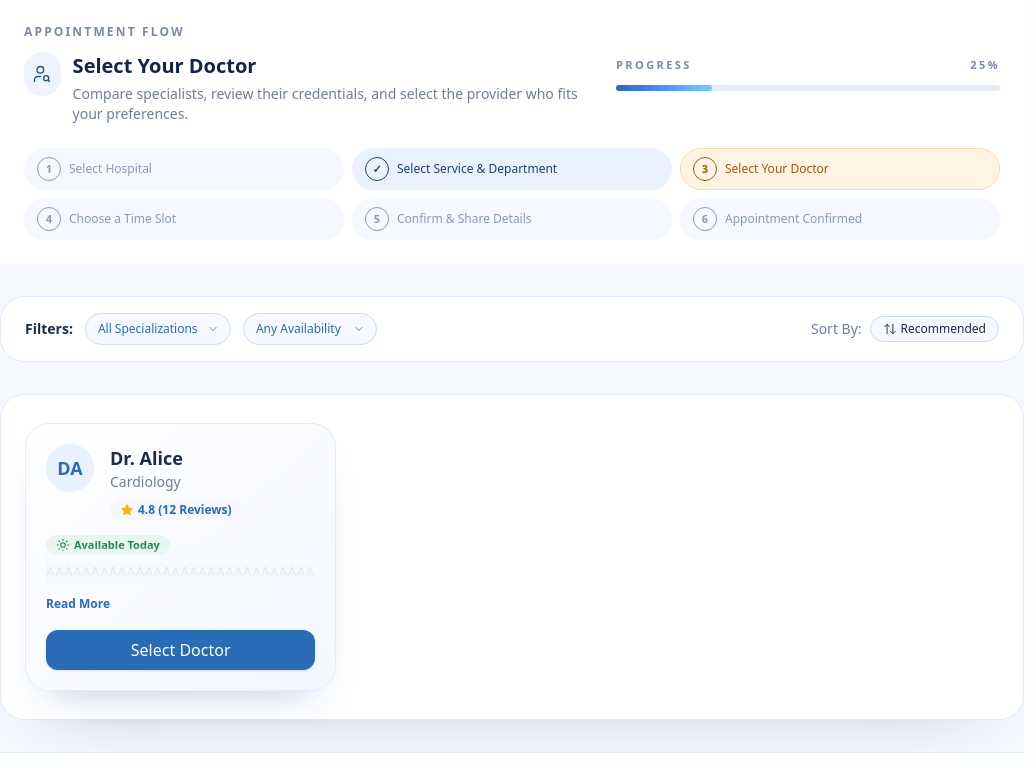
it: SelectDoctor › bio expansion toggles Read More / Show Less for long bios
Click the button "Read More" at [78, 604], box top-left (46, 596), bottom-right (110, 612)
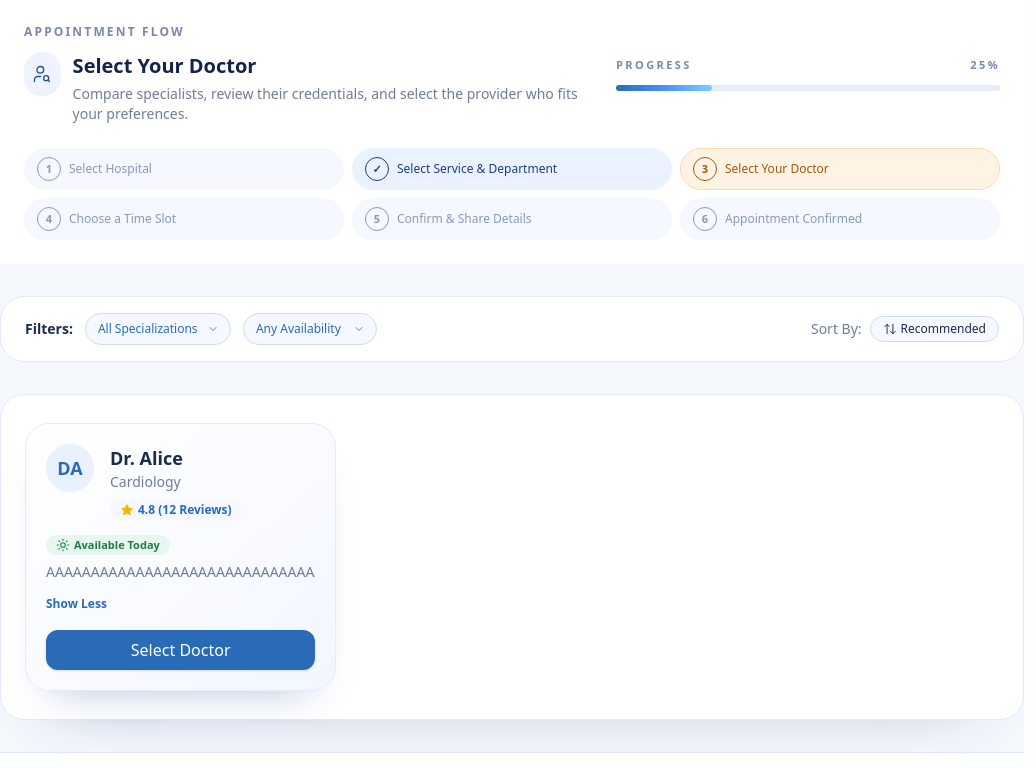
Check: the button "Show Less" is shown, box top-left (46, 596), bottom-right (107, 612)
